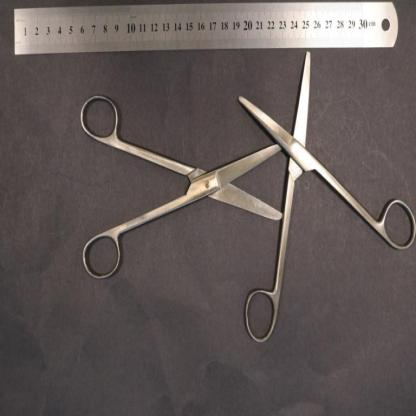Curved Mayo Scissors: (238, 51, 415, 346)
Dressing Scissors: (78, 94, 284, 281)
